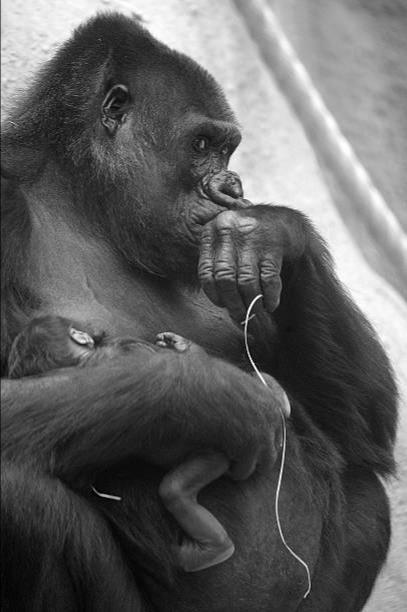gorille_Autres: (23, 5, 407, 600)
